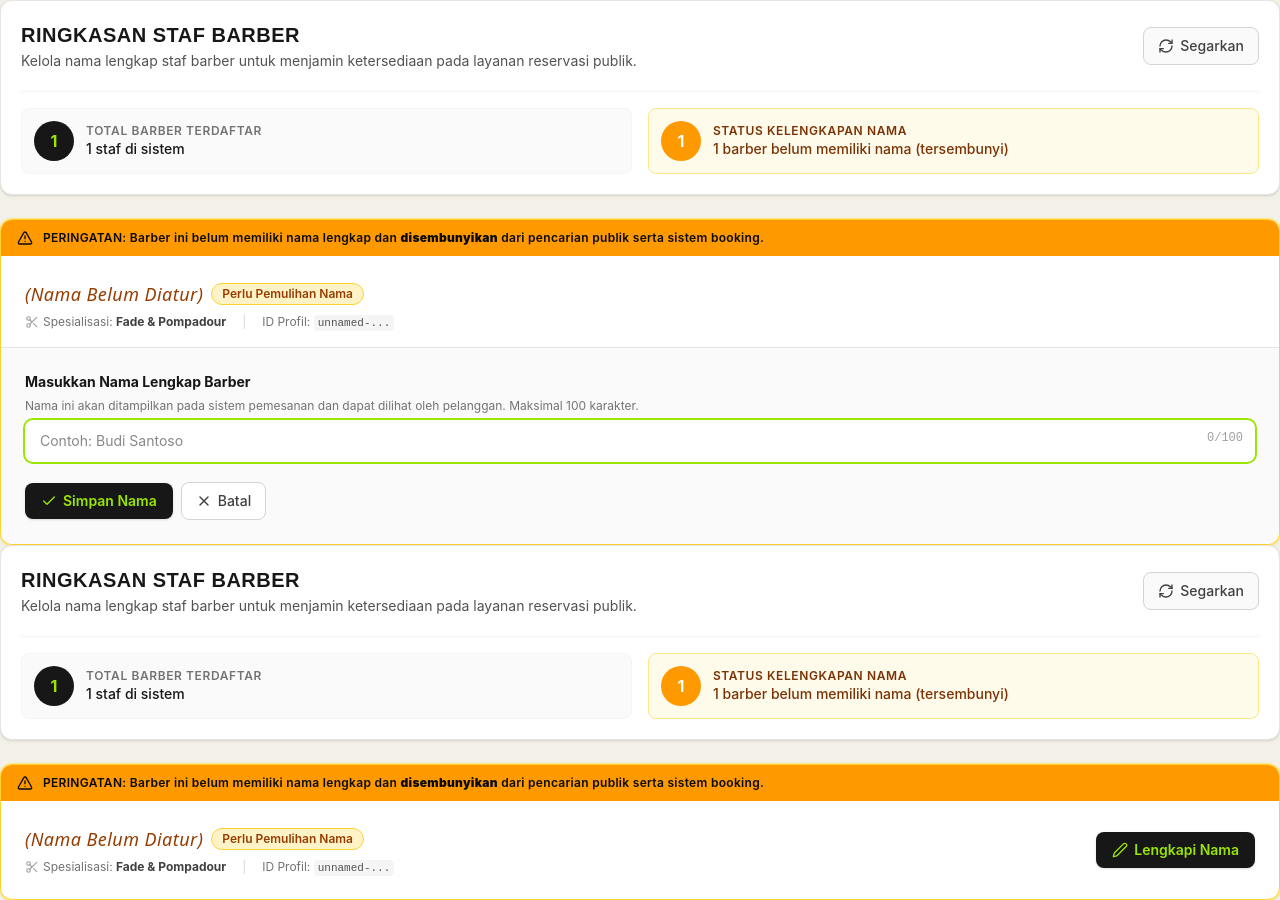
Scenario: Admin Barber Name Recovery UI (/admin/barbers) › Interactive Recovery Flow (Client-Side & Fetch) › prevents PATCH submission and displays error when input is blank
Click the button "Lengkapi Nama" at {"x": 1176, "y": 850}, box [1096,832,1255,868]
(page scrolled)
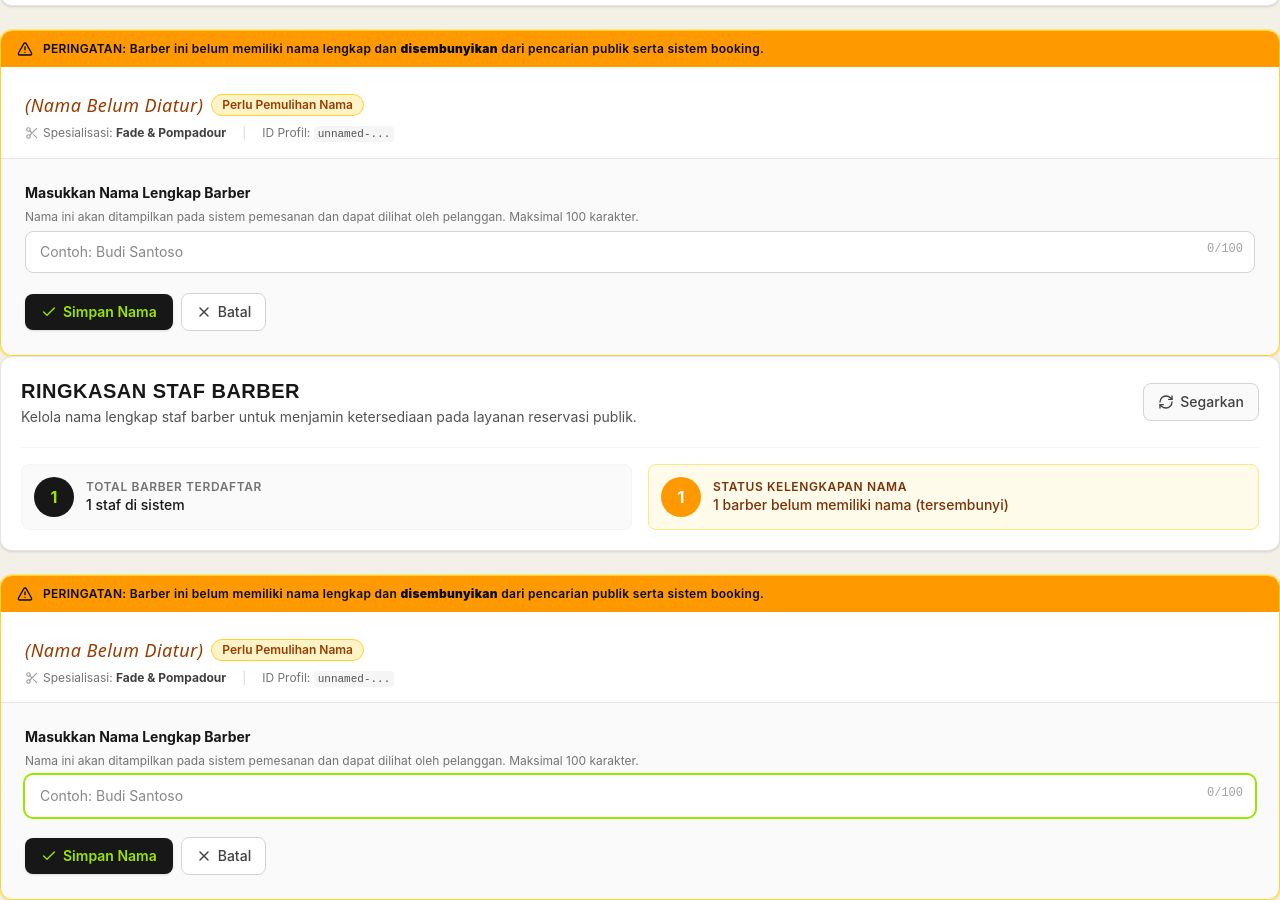
Click the 2nd button "Simpan Nama" at {"x": 99, "y": 856}, box [25,838,173,874]
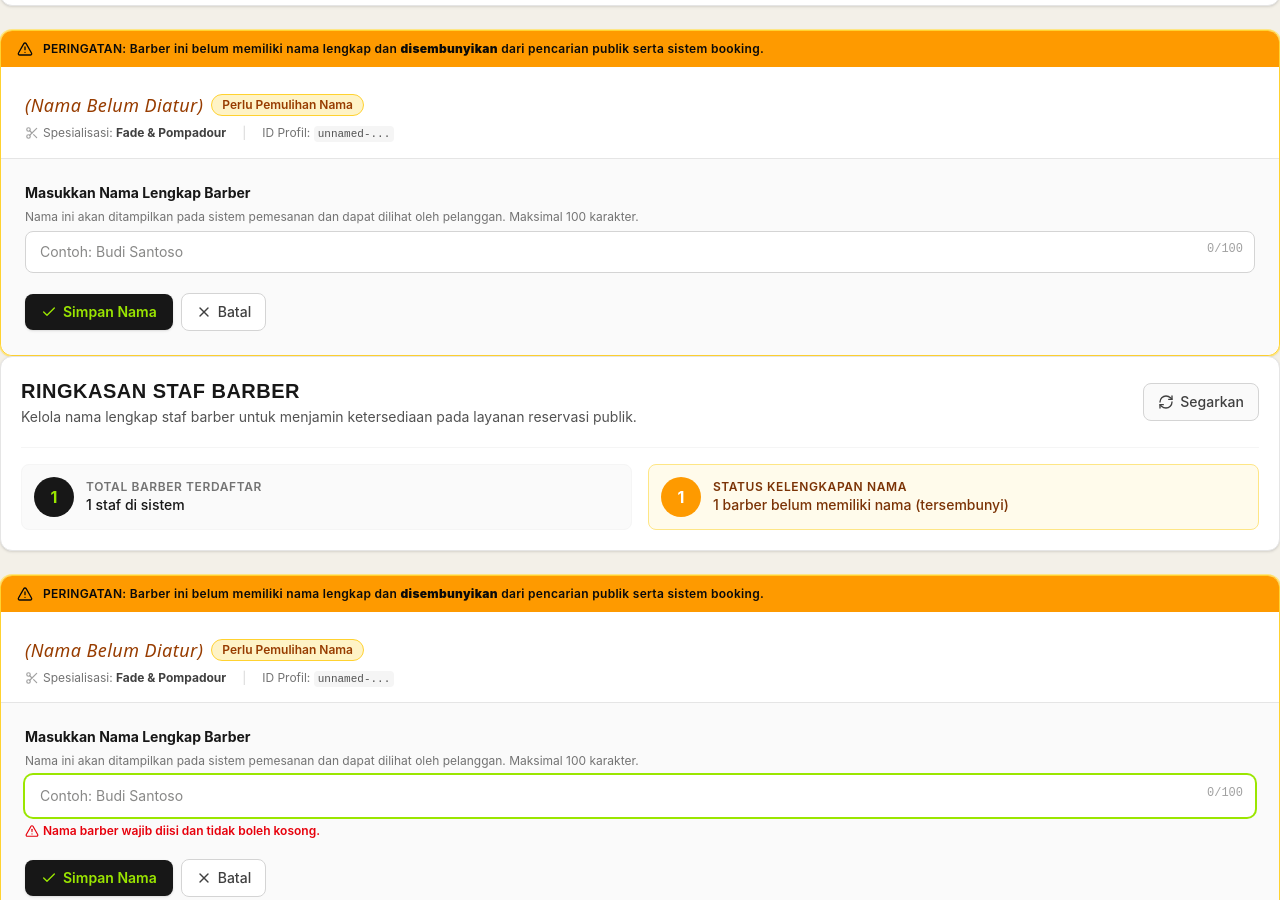
Expected: the message "Nama barber wajib diisi dan tidak boleh kosong." is shown, [25,823,320,838]
